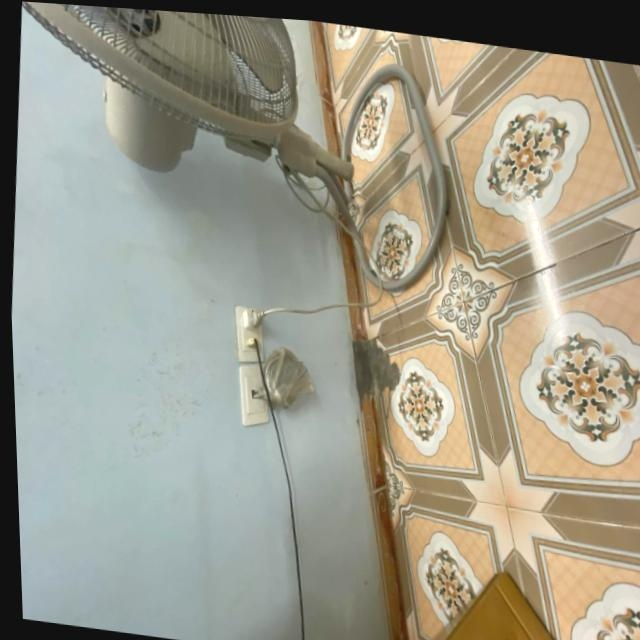outlet: (234, 360, 273, 429), (230, 303, 268, 365)
